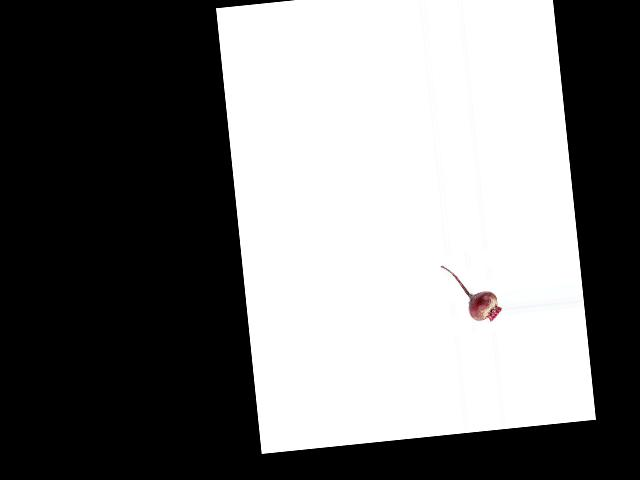beet: (440, 259, 503, 325)
